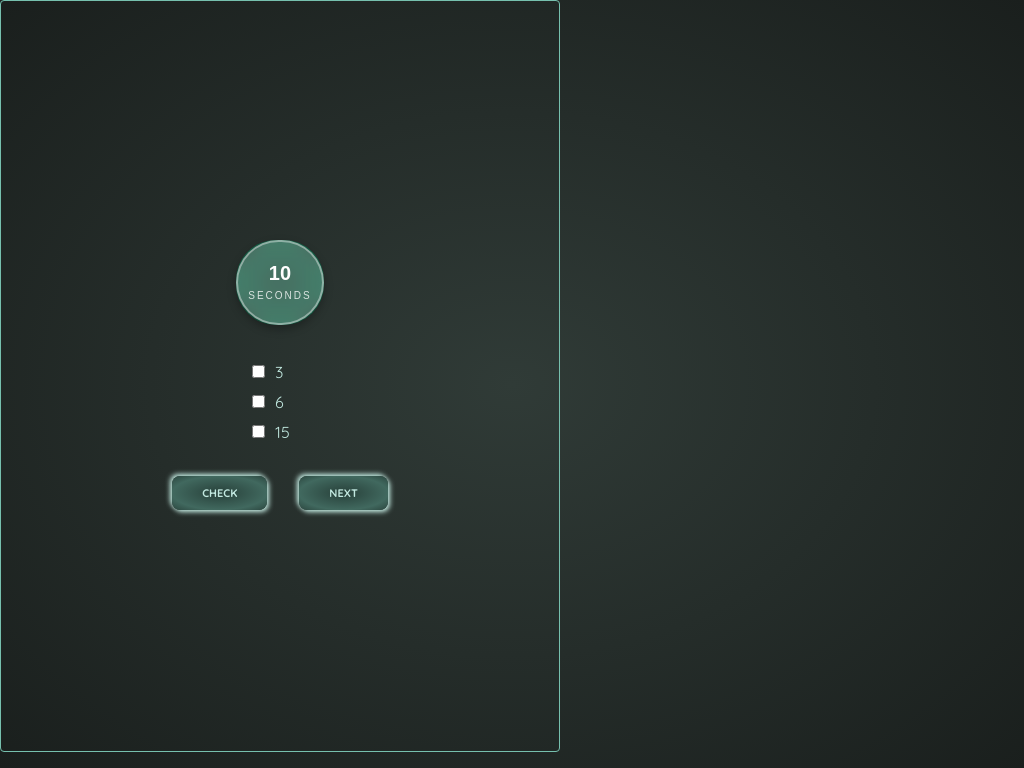
PlayGame Component › handles user interactions and game progression
Click the checkbox labelled "3": [258, 371] box [252,364,265,378]
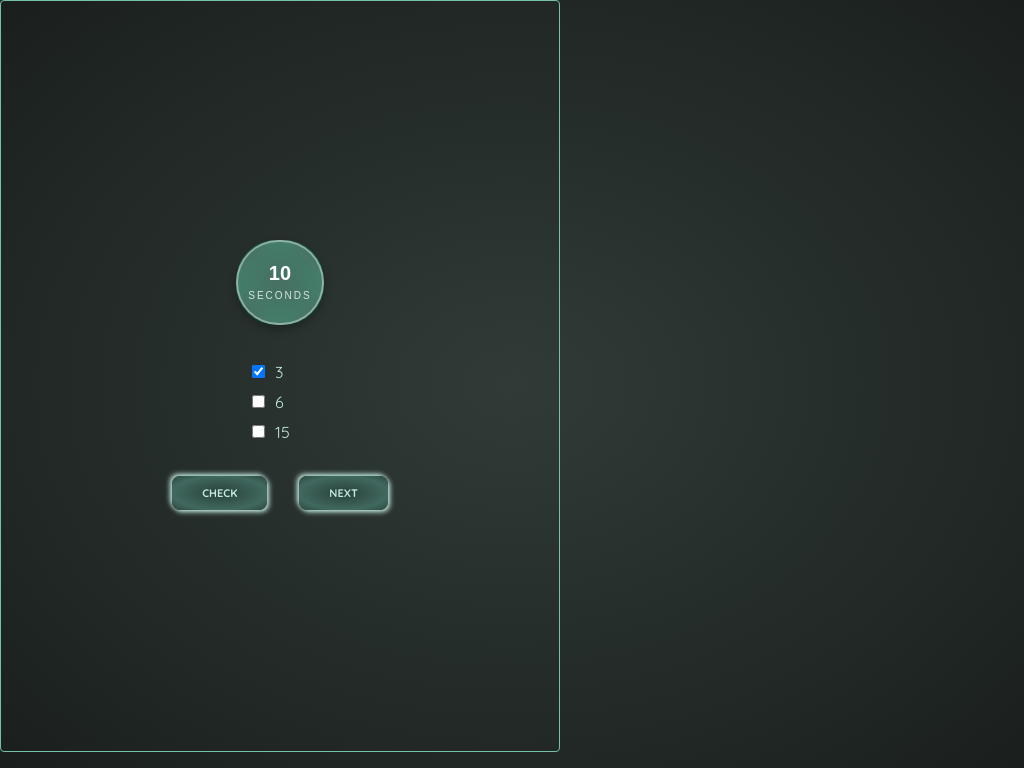
Now the checkbox labelled "3" is checked, box [252,364,265,378]
Click the text "CHECK": [220, 492] box [172,476,267,510]
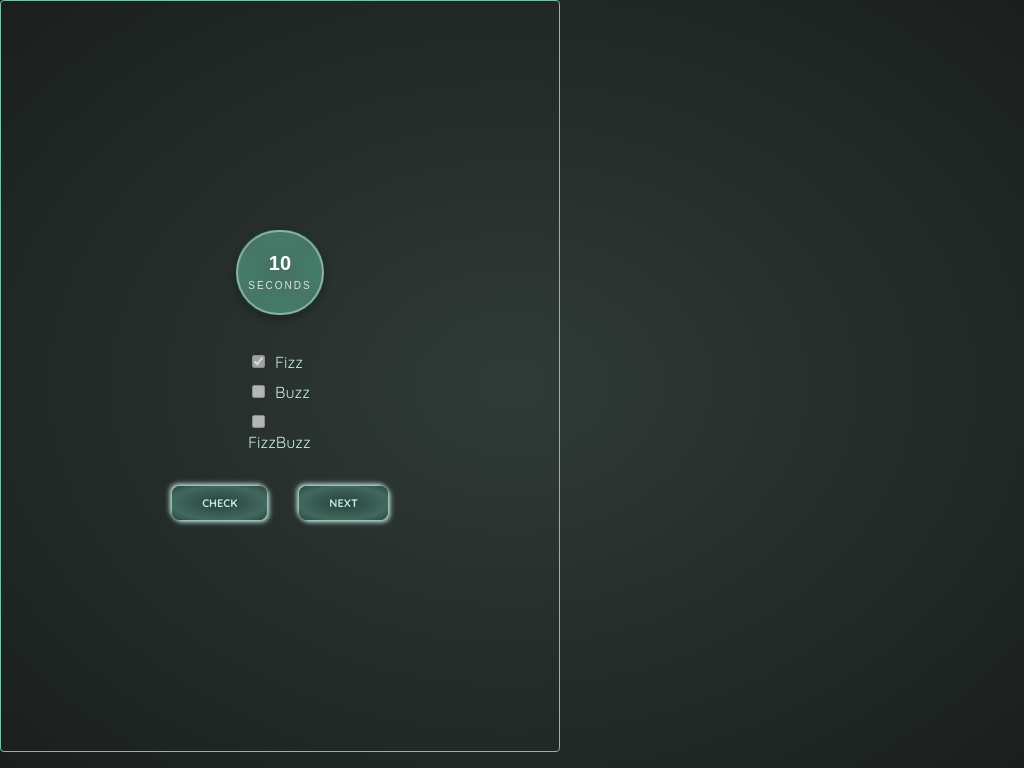
Click the text "NEXT": [344, 502] box [299,486,388,520]
Wait 10000 ms
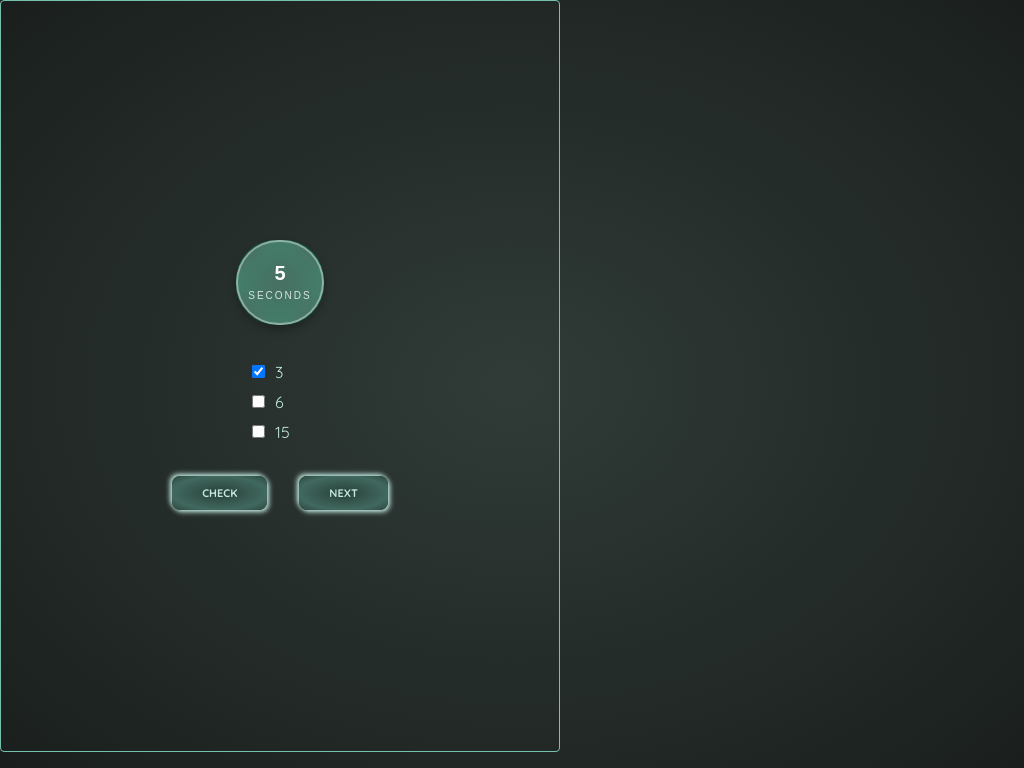
Now the text "5" is shown, box [274,262,286,284]
